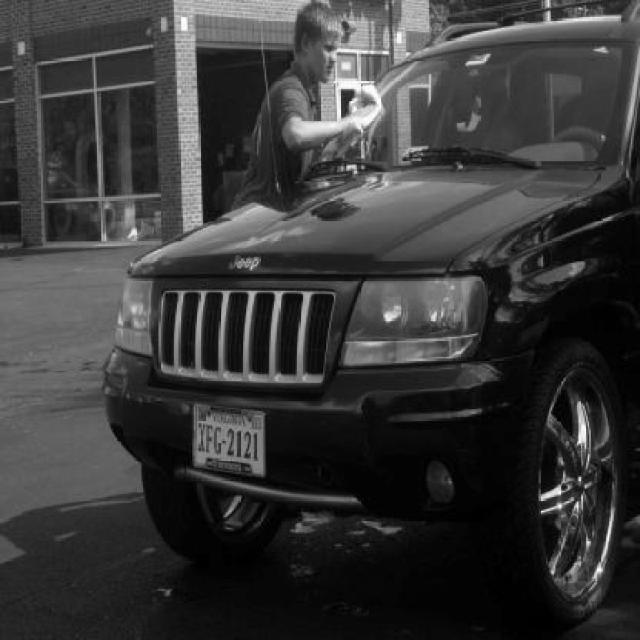car: (106, 9, 640, 629)
license-plate: (194, 403, 266, 477)
